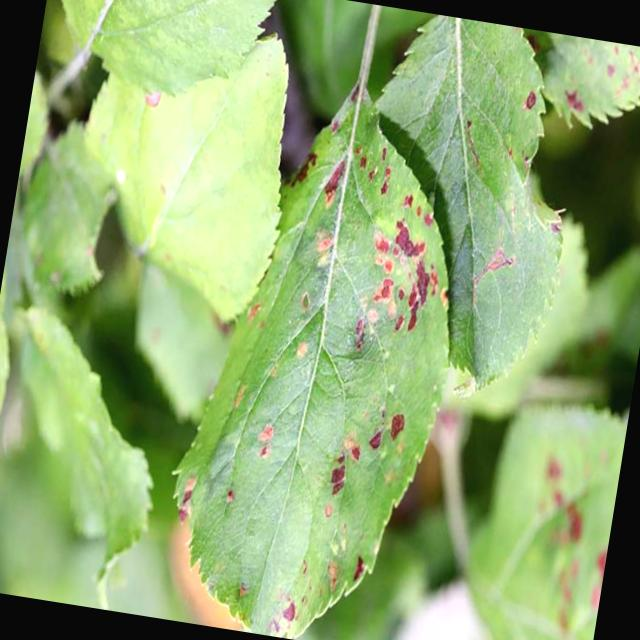leaf_spot: (175, 91, 449, 639)
